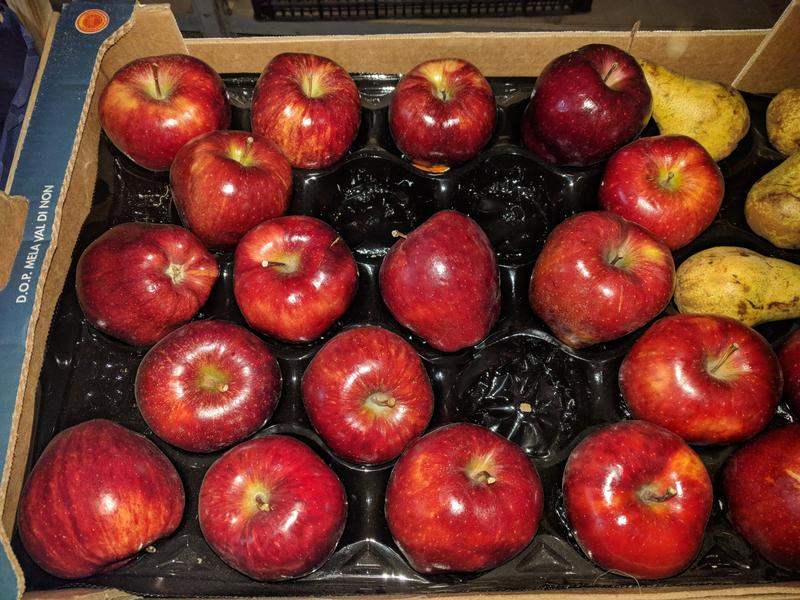apple: (16, 418, 196, 584), (554, 415, 720, 578), (380, 419, 548, 574), (193, 427, 351, 584), (609, 309, 787, 447), (525, 201, 683, 351), (292, 322, 443, 467), (374, 200, 513, 356), (130, 316, 285, 455), (71, 216, 229, 345), (228, 211, 374, 345), (95, 47, 242, 173), (521, 43, 658, 171), (166, 127, 308, 249), (595, 132, 737, 251), (249, 49, 372, 172), (383, 57, 498, 162)
